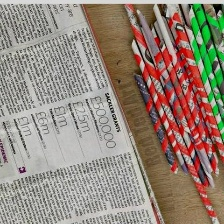news_paper: (0, 4, 166, 224)
